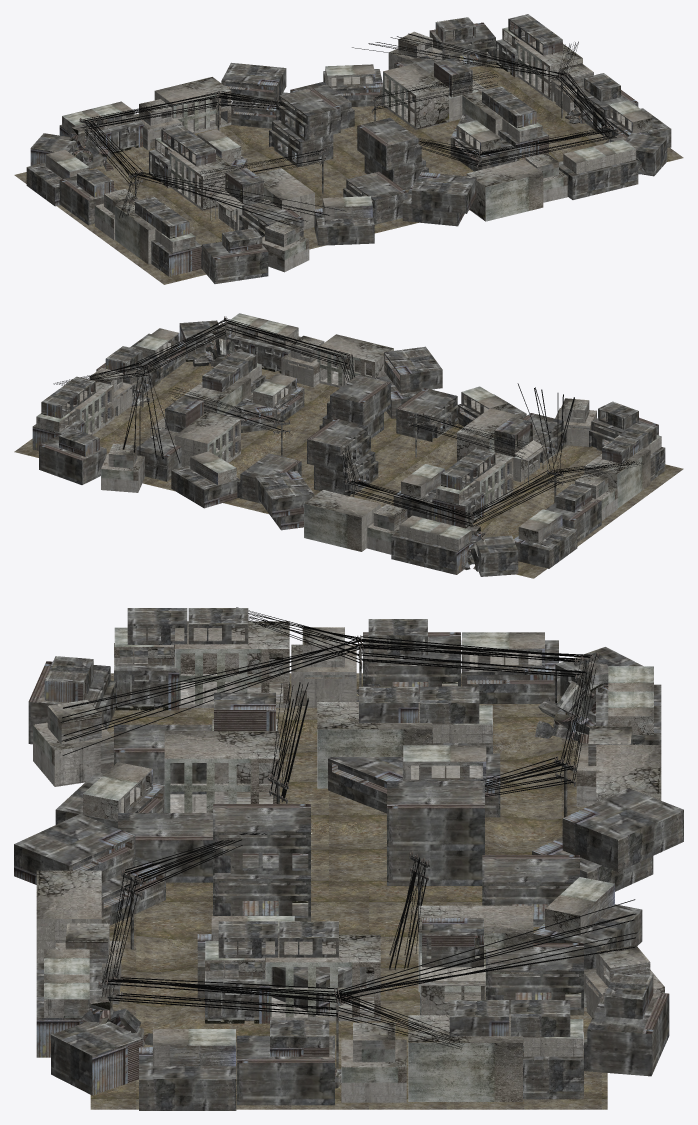
File: street.glb
The picture shows the model from 3 angles, top to bottom: view 1: azimuth 30°, elevation 25°; view 2: azimuth 150°, elevation 25°; view 3: azimuth 270°, elevation 25°; orthographic projection. The views are drawn at different scales.
Parts seen in each view (by area): view 1: Plane.002_Material.007_0_W, Plane.002_Material.007_0_E, Cube.039_Material.001_0_E, Cube.032_Material.001_0_E, Cube.039_Material.001_0_W, Cube.022_Material.002_0_W, Cube.022_Material.002_0_E, Cube.041_Material.003_0_E, Cube.026_Material.001_0_W, Cube.041_Material.003_0_W, Cube.042_Material.002_0_W, Cube.014_Material.002_0_W (+73 smaller); view 2: Plane.002_Material.007_0_W, Plane.002_Material.007_0_E, Cube.039_Material.001_0_W, Cube.039_Material.001_0_E, Cube.022_Material.002_0_W, Cube.032_Material.001_0_E, Cube.014_Material.002_0_W, Cube.022_Material.002_0_E, Cube.041_Material.003_0_E, Cube.041_Material.003_0_W, Cube_Material.001_0_W, Cube.042_Material.002_0_E (+73 smaller); view 3: Plane.002_Material.007_0_E, Plane.002_Material.007_0_W, Cube_Material.001_0_E, Cube_Material.001_0_W, Cube.032_Material.001_0_W, Cube.041_Material.003_0_W, Cube.022_Material.002_0_W, Cube.026_Material.001_0_E, Cube.022_Material.002_0_E, Cube.041_Material.003_0_E, Cube.007_Material.002_0_E, Cube.031_Material.002_0_E (+76 smaller).
Part boxes in pixels (<box>): Plane.002_Material.007_0_W: <box>14,125,418,284</box>; Plane.002_Material.007_0_E: <box>333,63,683,210</box>; Cube.039_Material.001_0_E: <box>466,159,543,221</box>; Cube.032_Material.001_0_E: <box>383,63,449,129</box>; Cube.039_Material.001_0_W: <box>154,77,231,133</box>; Cube.022_Material.002_0_W: <box>276,87,340,141</box>; Cube.022_Material.002_0_E: <box>357,118,421,170</box>; Cube.041_Material.003_0_E: <box>411,172,476,213</box>; Cube.026_Material.001_0_W: <box>169,151,235,210</box>; Cube.041_Material.003_0_W: <box>221,62,286,104</box>; Cube.042_Material.002_0_W: <box>201,241,268,283</box>; Cube.014_Material.002_0_W: <box>343,171,407,224</box>; Plane.002_Material.007_0_W: <box>311,423,683,578</box>; Plane.002_Material.007_0_E: <box>14,361,396,513</box>; Cube.039_Material.001_0_W: <box>304,490,380,551</box>; Cube.039_Material.001_0_E: <box>317,334,393,387</box>; Cube.022_Material.002_0_W: <box>307,418,370,471</box>; Cube.032_Material.001_0_E: <box>175,411,240,466</box>; Cube.014_Material.002_0_W: <box>396,388,458,441</box>; Cube.022_Material.002_0_E: <box>327,374,390,425</box>; Cube.041_Material.003_0_E: <box>384,346,442,393</box>; Cube.041_Material.003_0_W: <box>255,471,313,517</box>; Cube_Material.001_0_W: <box>584,448,650,508</box>; Cube.042_Material.002_0_E: <box>39,433,106,484</box>; Plane.002_Material.007_0_E: <box>90,891,607,1109</box>; Plane.002_Material.007_0_W: <box>107,673,587,891</box>; Cube_Material.001_0_E: <box>408,1015,522,1101</box>; Cube_Material.001_0_W: <box>175,621,289,707</box>; Cube.032_Material.001_0_W: <box>164,731,279,812</box>; Cube.041_Material.003_0_W: <box>562,788,683,871</box>; Cube.022_Material.002_0_W: <box>387,781,484,850</box>; Cube.026_Material.001_0_E: <box>265,934,380,1021</box>; Cube.022_Material.002_0_E: <box>213,804,310,875</box>; Cube.041_Material.003_0_E: <box>14,814,135,884</box>; Cube.007_Material.002_0_E: <box>237,1035,334,1105</box>; Cube.031_Material.002_0_E: <box>486,943,583,1015</box>.
Bounding box in the file's own units: 31.99 × 3.32 × 20.54.
Materials: 5 (4 with a texture image).
